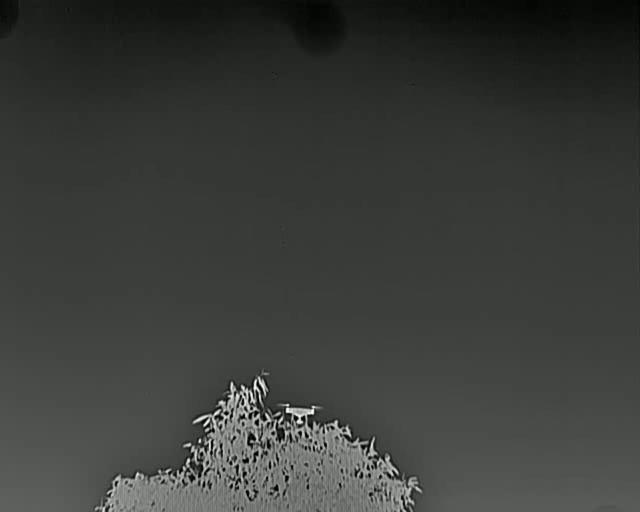DJI-Phantom: (277, 401, 327, 425)
